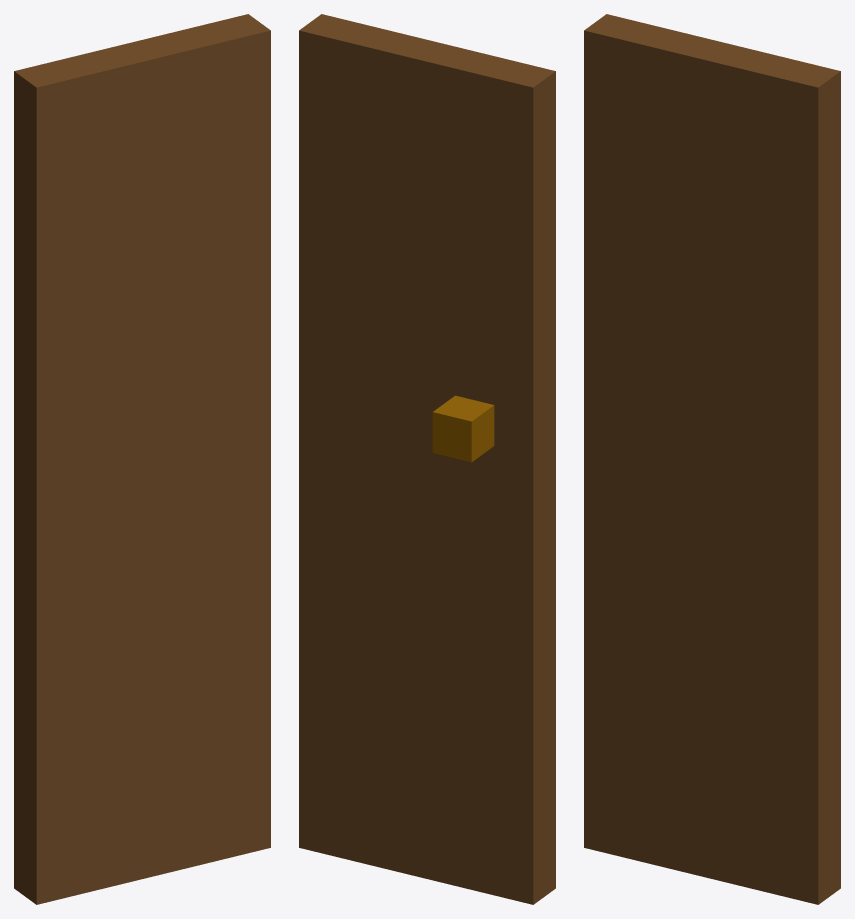
File: wardrobe door.obj
3 views of the same model, side by side, from view 1: azimuth 30°, elevation 25°; view 2: azimuth 150°, elevation 25°; view 3: azimuth 330°, elevation 25° (orthographic).
Parts seen in each view (by area): view 1: wardrobe door; view 2: wardrobe door; view 3: wardrobe door.
Boxes of the visible parts, box(x1,y1,x2,y2) form: wardrobe door: box(14, 14, 270, 904); wardrobe door: box(299, 14, 555, 904); wardrobe door: box(584, 14, 840, 904).
Size of the model in its own units: 6 by 20 by 2.
